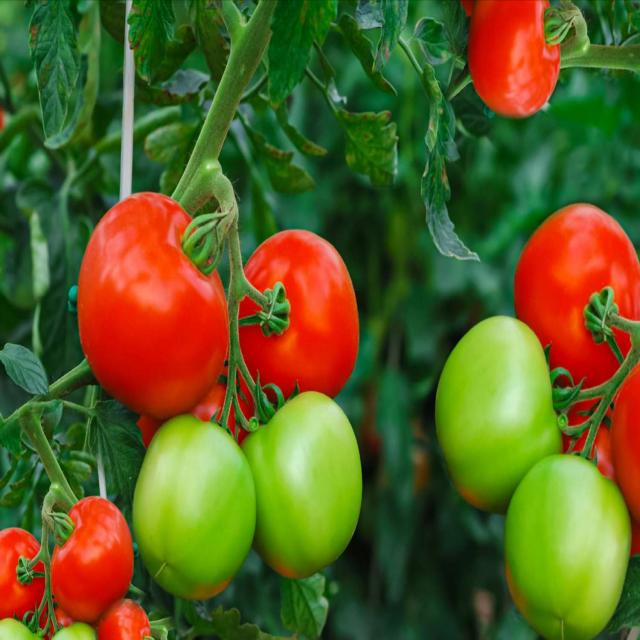level 2: (431, 314, 569, 523), (126, 410, 261, 612), (500, 449, 632, 640), (245, 384, 365, 580)
level 6: (72, 186, 228, 427), (512, 204, 640, 391), (237, 225, 360, 415), (467, 0, 565, 123), (42, 492, 134, 618)
